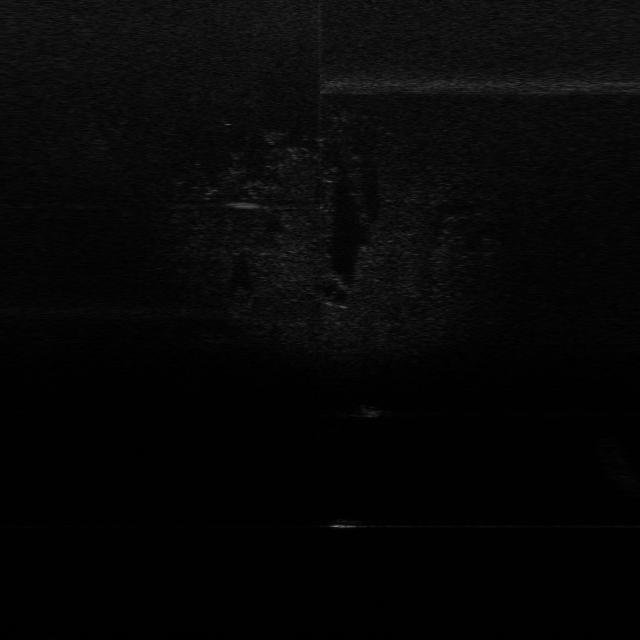cube: (324, 514, 368, 531)
square cage: (354, 402, 386, 419)
